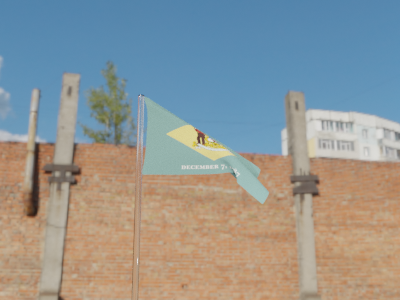Delaware flag: (139, 95, 272, 206)
